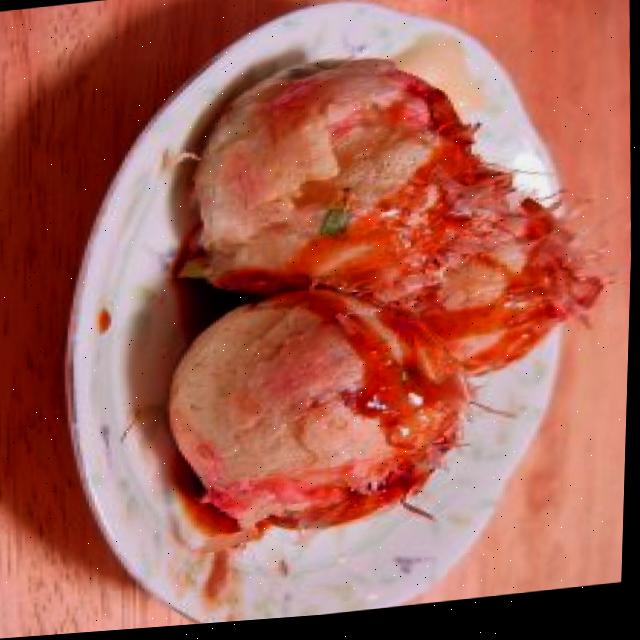炸货点心: (138, 32, 612, 560)
